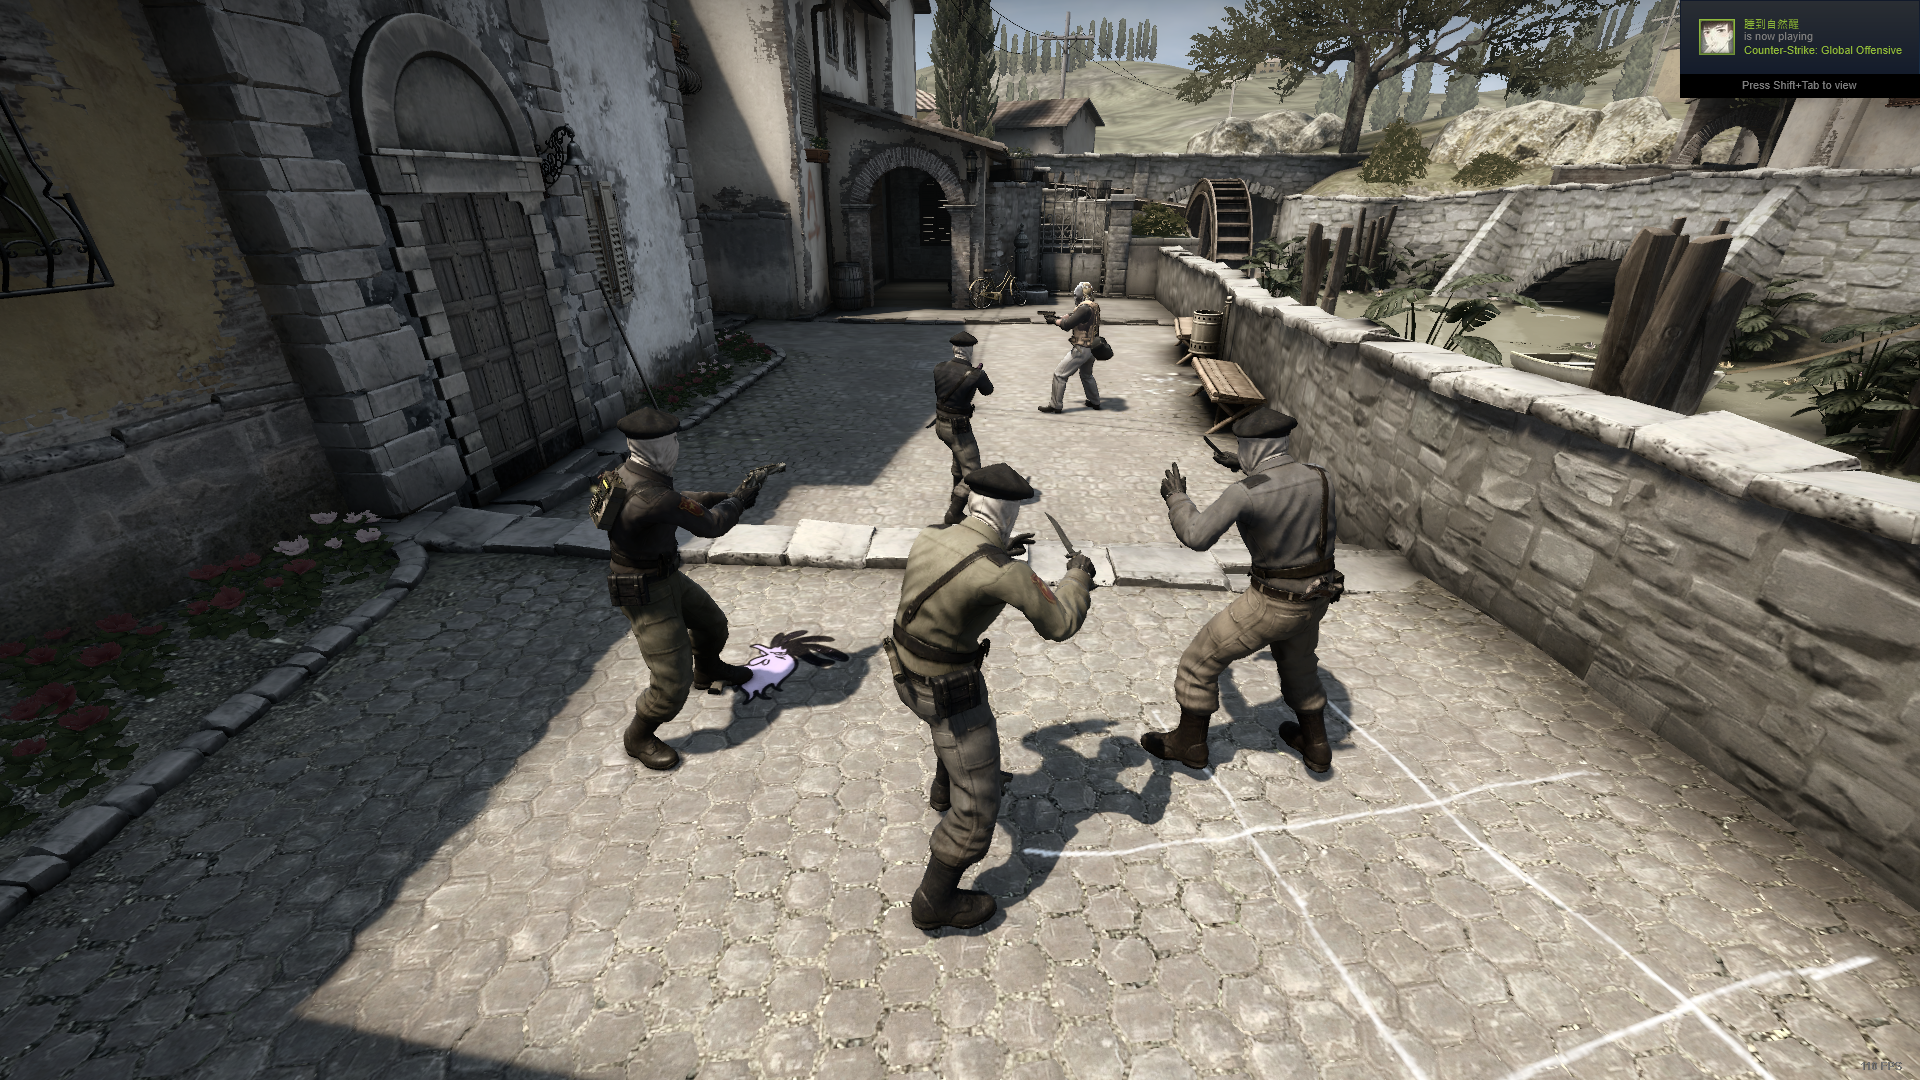t: (886, 464, 1097, 938), (1142, 405, 1342, 773), (595, 407, 760, 771), (936, 332, 996, 465)
